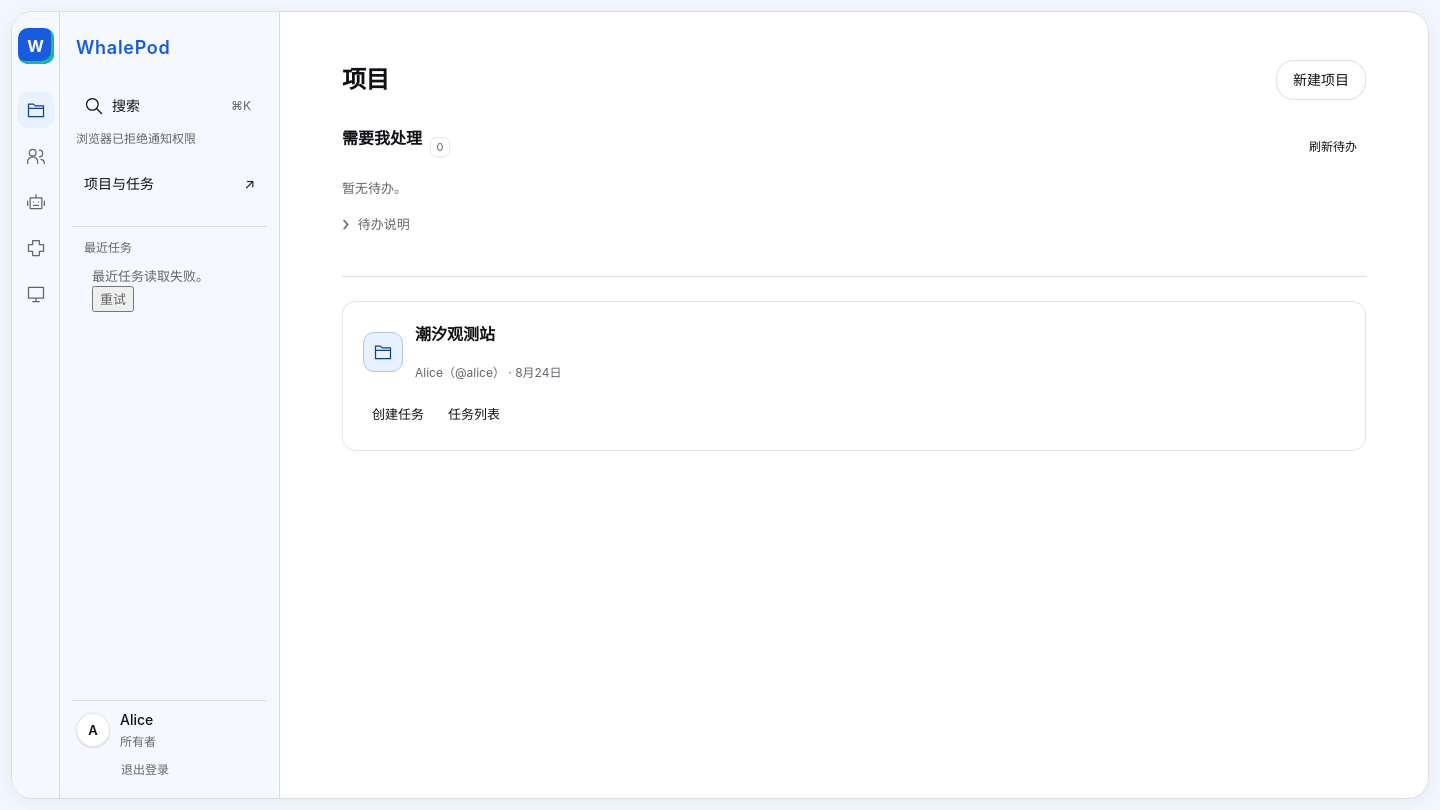
it: #152 名册新鲜度：挂载后加入的成员必须出现在责任人相关界面 › 页面挂载后 Bob 才加入：任务列表的责任人显示名跟着刷新
Expected: the heading "潮汐观测站" is shown, [415,324,495,344]
What coordinates should you click on to do the following:
click the button "任务列表"
I would click on:
 (474, 414)
Its box is [439,398,509,430].
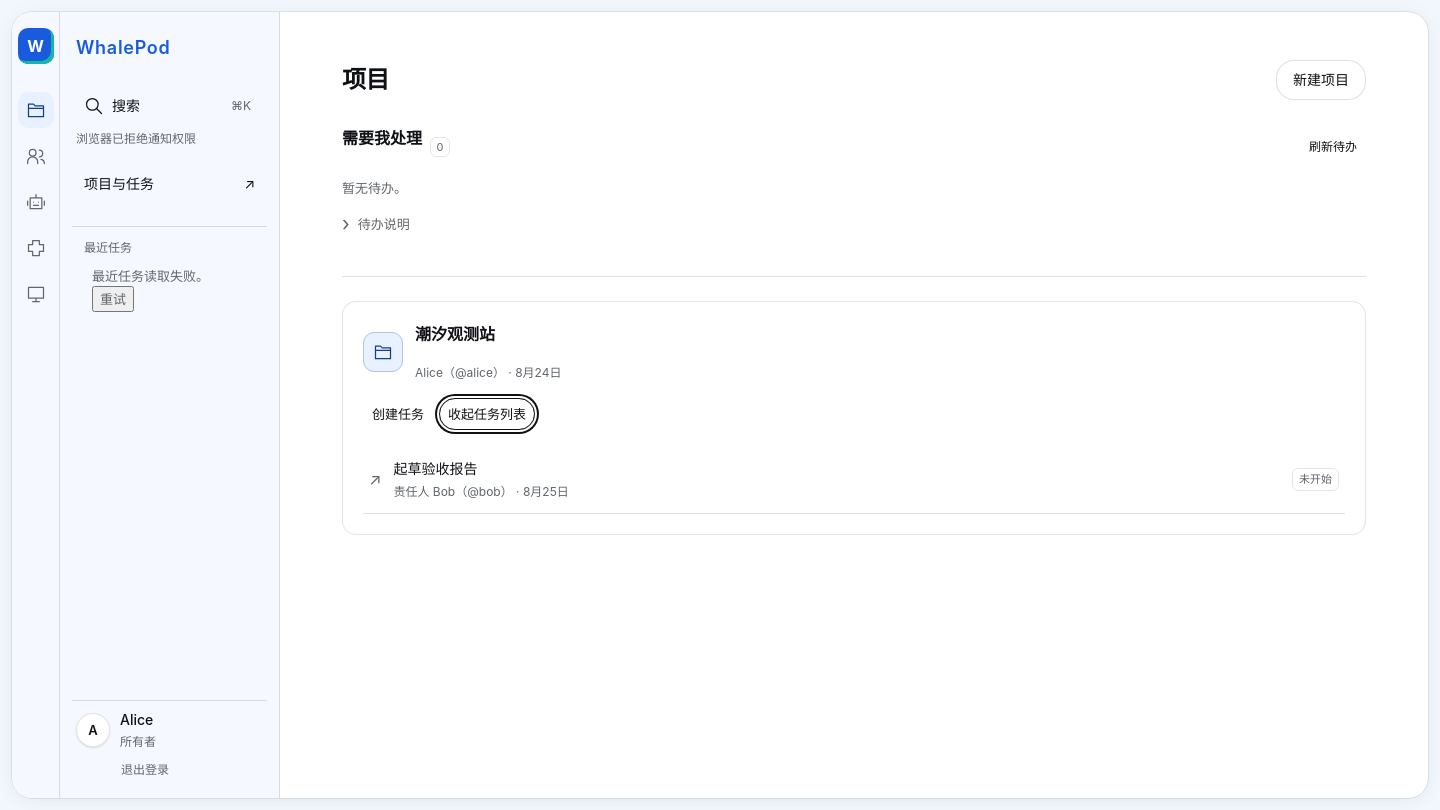
Expected: the list named "项目任务列表" shows "责任人 Bob（@bob）", [363,446,1345,514]
